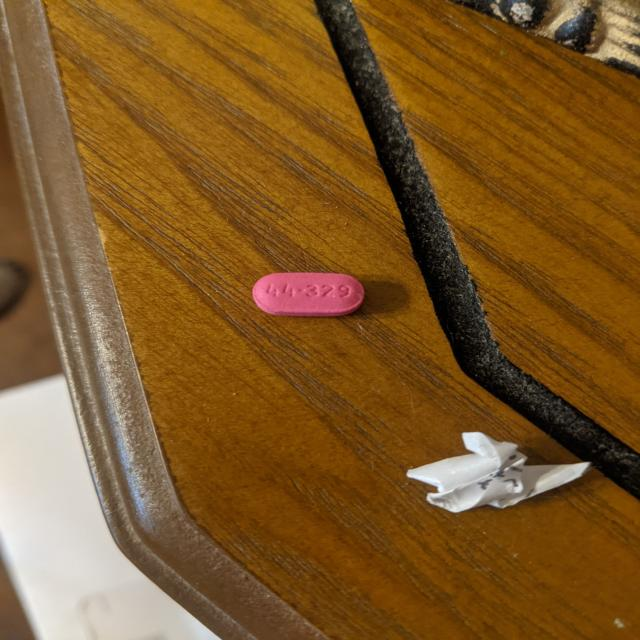non-organic waste: (252, 271, 366, 318)
